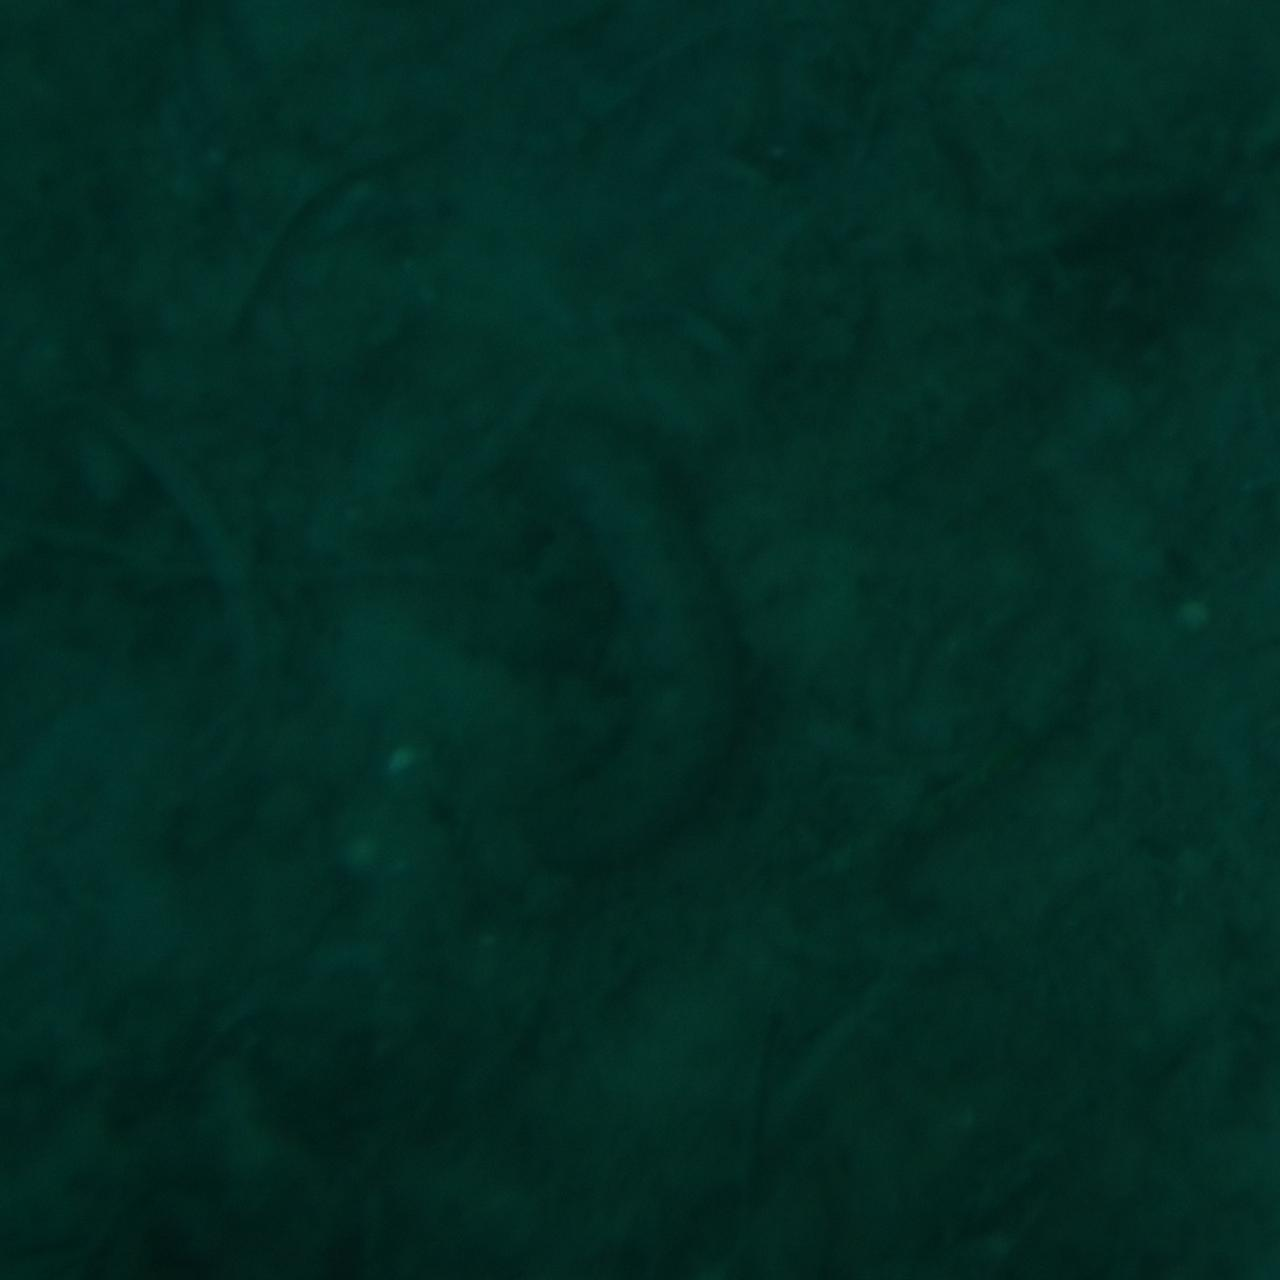Holothuria tubulosa: (518, 372, 762, 908)
